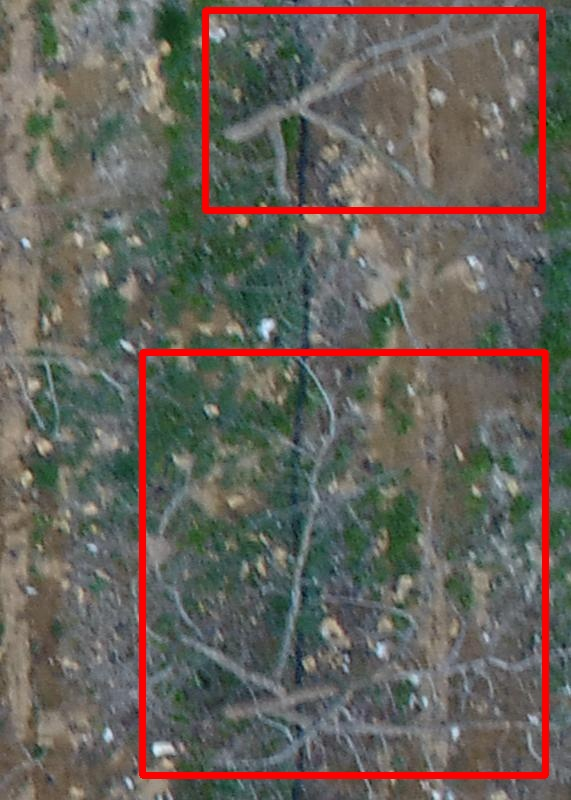apple: (142, 352, 545, 775), (205, 10, 542, 210)
